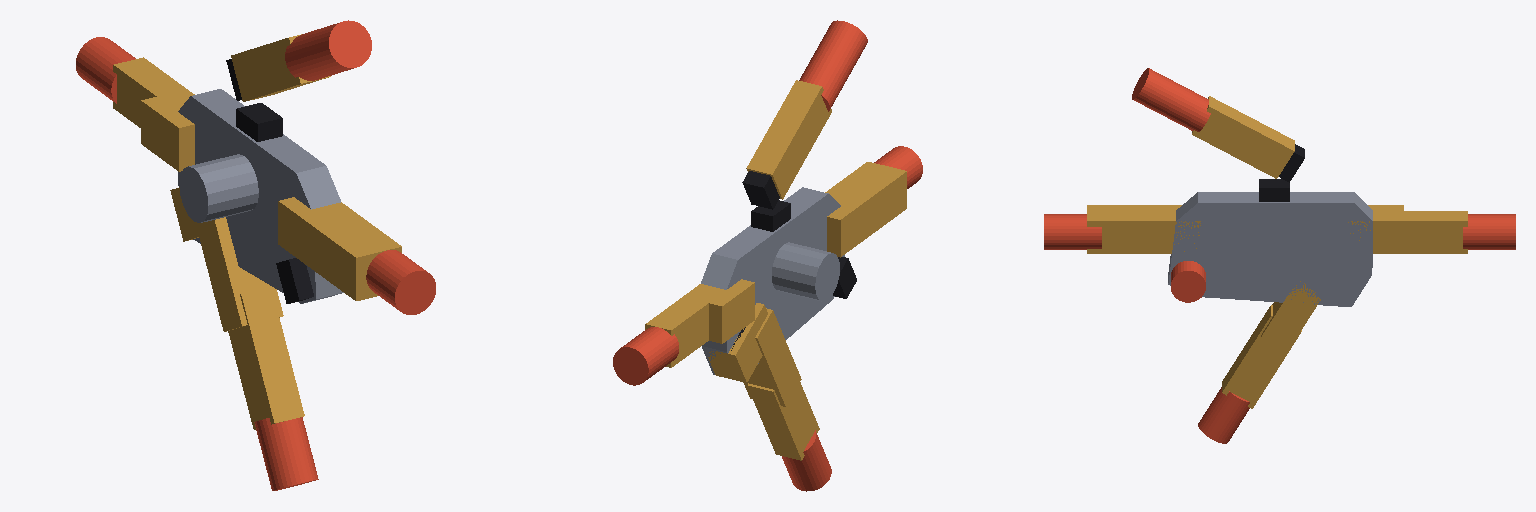
URDF robot description (g0064_c04):
<robot name="g0064_c04">
  <link name="palm">
    <visual name="palm_palm1">
      <origin xyz="0 0 0" rpy="0 0 0" />
      <geometry>
        <mesh filename="palm_palm1.obj" />
      </geometry>
      <material name="palm_palm1_mat">
        <color rgba="0.55 0.57 0.62 1" />
      </material>
    </visual>
    <collision>
      <origin xyz="0 0 0" rpy="0 0 0" />
      <geometry>
        <mesh filename="palm_palm1.obj" />
      </geometry>
    </collision>
    <visual name="palm_mount2">
      <origin xyz="0 0 0" rpy="0 0 0" />
      <geometry>
        <mesh filename="palm_mount2.obj" />
      </geometry>
      <material name="palm_mount2_mat">
        <color rgba="0.55 0.57 0.62 1" />
      </material>
    </visual>
    <collision>
      <origin xyz="0 0 0" rpy="0 0 0" />
      <geometry>
        <mesh filename="palm_mount2.obj" />
      </geometry>
    </collision>
    <visual name="palm_hinge3">
      <origin xyz="0 -1.99005105e-18 0.0325" rpy="-1.57079633 -6.123234e-17 1.57079633" />
      <geometry>
        <box size="0.029 0.034 0.02" />
      </geometry>
      <material name="palm_hinge3_mat">
        <color rgba="0.15 0.15 0.17 1" />
      </material>
    </visual>
    <collision>
      <origin xyz="0 -1.99005105e-18 0.0325" rpy="-1.57079633 -6.123234e-17 1.57079633" />
      <geometry>
        <box size="0.029 0.034 0.02" />
      </geometry>
    </collision>
    <visual name="palm_motor4">
      <origin xyz="-0.007 -0.08 -0.04" rpy="1.06057524e-16 -1.04719755 1.57079633" />
      <geometry>
        <box size="0.029 0.034 0.02" />
      </geometry>
      <material name="palm_motor4_mat">
        <color rgba="0.15 0.15 0.17 1" />
      </material>
    </visual>
    <collision>
      <origin xyz="-0.007 -0.08 -0.04" rpy="1.06057524e-16 -1.04719755 1.57079633" />
      <geometry>
        <box size="0.029 0.034 0.02" />
      </geometry>
    </collision>
    <visual name="palm_motor5">
      <origin xyz="0 -0.0725 1.37772765e-18" rpy="-0 -1.57079633 0" />
      <geometry>
        <box size="0.029 0.034 0.02" />
      </geometry>
      <material name="palm_motor5_mat">
        <color rgba="0.15 0.15 0.17 1" />
      </material>
    </visual>
    <collision>
      <origin xyz="0 -0.0725 1.37772765e-18" rpy="-0 -1.57079633 0" />
      <geometry>
        <box size="0.029 0.034 0.02" />
      </geometry>
    </collision>
    <visual name="palm_motor6">
      <origin xyz="-0.0045 0.0666996732 -0.0467548095" rpy="1.57079633 -0.523598776 -1.57079633" />
      <geometry>
        <box size="0.029 0.034 0.02" />
      </geometry>
      <material name="palm_motor6_mat">
        <color rgba="0.15 0.15 0.17 1" />
      </material>
    </visual>
    <collision>
      <origin xyz="-0.0045 0.0666996732 -0.0467548095" rpy="1.57079633 -0.523598776 -1.57079633" />
      <geometry>
        <box size="0.029 0.034 0.02" />
      </geometry>
    </collision>
    <visual name="palm_motor7">
      <origin xyz="0 0.0725 -4.5924255e-19" rpy="-3.14159265 1.57079633 0" />
      <geometry>
        <box size="0.029 0.034 0.02" />
      </geometry>
      <material name="palm_motor7_mat">
        <color rgba="0.15 0.15 0.17 1" />
      </material>
    </visual>
    <collision>
      <origin xyz="0 0.0725 -4.5924255e-19" rpy="-3.14159265 1.57079633 0" />
      <geometry>
        <box size="0.029 0.034 0.02" />
      </geometry>
    </collision>
    <inertial>
      <origin xyz="1.62576089e-19 -0.000576284134 -0.0153445716" rpy="1.57079633 0.00985398496 1.57079633" />
      <mass value="0.759802001" />
      <inertia ixx="0.000656043257" ixy="0" ixz="0" iyy="0.00207053053" iyz="0" izz="0.00265363279" />
    </inertial>
  </link>
  <link name="palm0">
    <visual name="palm0_palm1">
      <origin xyz="0 0 0" rpy="0 0 0" />
      <geometry>
        <mesh filename="palm0_palm1.obj" />
      </geometry>
      <material name="palm0_palm1_mat">
        <color rgba="0.55 0.57 0.62 1" />
      </material>
    </visual>
    <collision>
      <origin xyz="0 0 0" rpy="0 0 0" />
      <geometry>
        <mesh filename="palm0_palm1.obj" />
      </geometry>
    </collision>
    <visual name="palm0_motor2">
      <origin xyz="0 0.00649519053 0.03625" rpy="-1.57079633 -1.04719755 1.57079633" />
      <geometry>
        <box size="0.029 0.034 0.02" />
      </geometry>
      <material name="palm0_motor2_mat">
        <color rgba="0.15 0.15 0.17 1" />
      </material>
    </visual>
    <collision>
      <origin xyz="0 0.00649519053 0.03625" rpy="-1.57079633 -1.04719755 1.57079633" />
      <geometry>
        <box size="0.029 0.034 0.02" />
      </geometry>
    </collision>
    <inertial>
      <origin xyz="0 0.00298584265 0.0237636617" rpy="1.57079633 -0.00703021616 1.57079633" />
      <mass value="0.160589974" />
      <inertia ixx="3.66094242e-05" ixy="0" ixz="0" iyy="0.000120745357" iyz="0" izz="0.000141938144" />
    </inertial>
  </link>
  <link name="f0_link0">
    <visual name="f0_link0_link1">
      <origin xyz="0.019 0 -6.9388939e-18" rpy="-1.57079633 -0 -1.57079633" />
      <geometry>
        <cylinder radius="0.0165" length="0.029" />
      </geometry>
      <material name="f0_link0_link1_mat">
        <color rgba="0.85 0.35 0.25 1" />
      </material>
    </visual>
    <collision>
      <origin xyz="0.019 0 -6.9388939e-18" rpy="-1.57079633 -0 -1.57079633" />
      <geometry>
        <cylinder radius="0.0165" length="0.029" />
      </geometry>
    </collision>
    <inertial>
      <origin xyz="0.019 0 0" rpy="0 0 0" />
      <mass value="0.0763354" />
      <inertia ixx="9.49466441e-06" ixy="0" ixz="0" iyy="2.24143997e-05" iyz="0" izz="2.24143997e-05" />
    </inertial>
  </link>
  <link name="f1_link0">
    <visual name="f1_link0_link1">
      <origin xyz="0.04125 -0.00625 0" rpy="0 -0 0" />
      <geometry>
        <box size="0.1065 0.0365 0.033" />
      </geometry>
      <material name="f1_link0_link1_mat">
        <color rgba="0.80 0.62 0.30 1" />
      </material>
    </visual>
    <collision>
      <origin xyz="0.04125 -0.00625 0" rpy="0 -0 0" />
      <geometry>
        <box size="0.1065 0.0365 0.033" />
      </geometry>
    </collision>
    <inertial>
      <origin xyz="0.04125 -0.00625 0" rpy="0 0 0" />
      <mass value="0.224488688" />
      <inertia ixx="4.52952696e-05" ixy="0" ixz="0" iyy="0.00023255625" iyz="0" izz="0.000237106822" />
    </inertial>
  </link>
  <link name="f1_link1">
    <visual name="f1_link1_link1">
      <origin xyz="0.02675 0 0" rpy="-1.57079633 -0 -1.57079633" />
      <geometry>
        <cylinder radius="0.0165" length="0.0535" />
      </geometry>
      <material name="f1_link1_link1_mat">
        <color rgba="0.85 0.35 0.25 1" />
      </material>
    </visual>
    <collision>
      <origin xyz="0.02675 0 0" rpy="-1.57079633 -0 -1.57079633" />
      <geometry>
        <cylinder radius="0.0165" length="0.0535" />
      </geometry>
    </collision>
    <inertial>
      <origin xyz="0.02675 0 0" rpy="0 0 0" />
      <mass value="0.113006328" />
      <inertia ixx="1.44864944e-05" ixy="0" ixz="0" iyy="6.25996244e-05" iyz="0" izz="6.25996244e-05" />
    </inertial>
  </link>
  <link name="f2_link0">
    <visual name="f2_link0_link1">
      <origin xyz="0.03375 0 0" rpy="0 7.03853194e-17 0" />
      <geometry>
        <box size="0.0915 0.024 0.033" />
      </geometry>
      <material name="f2_link0_link1_mat">
        <color rgba="0.80 0.62 0.30 1" />
      </material>
    </visual>
    <collision>
      <origin xyz="0.03375 0 0" rpy="0 7.03853194e-17 0" />
      <geometry>
        <box size="0.0915 0.024 0.033" />
      </geometry>
    </collision>
    <inertial>
      <origin xyz="0.03375 0 0" rpy="0 0 0" />
      <mass value="0.126819" />
      <inertia ixx="1.75961363e-05" ixy="0" ixz="0" iyy="9.99888553e-05" iyz="0" izz="9.45673431e-05" />
    </inertial>
  </link>
  <link name="f2_link1">
    <visual name="f2_link1_link1">
      <origin xyz="0.039 0 -1.38777878e-17" rpy="-1.57079633 -0 -1.57079633" />
      <geometry>
        <cylinder radius="0.0165" length="0.069" />
      </geometry>
      <material name="f2_link1_link1_mat">
        <color rgba="0.85 0.35 0.25 1" />
      </material>
    </visual>
    <collision>
      <origin xyz="0.039 0 -1.38777878e-17" rpy="-1.57079633 -0 -1.57079633" />
      <geometry>
        <cylinder radius="0.0165" length="0.069" />
      </geometry>
    </collision>
    <inertial>
      <origin xyz="0.039 0 0" rpy="0 0 0" />
      <mass value="0.136206302" />
      <inertia ixx="1.76445909e-05" ixy="0" ixz="0" iyy="0.000104842911" iyz="0" izz="0.000104842911" />
    </inertial>
  </link>
  <link name="f3_link0">
    <visual name="f3_link0_link1">
      <origin xyz="-0.00625 0 -0.0165" rpy="0 4.06369831e-17 0" />
      <geometry>
        <box size="0.0365 0.029 0.053" />
      </geometry>
      <material name="f3_link0_link1_mat">
        <color rgba="0.80 0.62 0.30 1" />
      </material>
    </visual>
    <collision>
      <origin xyz="-0.00625 0 -0.0165" rpy="0 4.06369831e-17 0" />
      <geometry>
        <box size="0.0365 0.029 0.053" />
      </geometry>
    </collision>
    <inertial>
      <origin xyz="-0.00625 0 -0.0165" rpy="0 0 0" />
      <mass value="0.098175875" />
      <inertia ixx="2.98618286e-05" ixy="0" ixz="0" iyy="3.38809035e-05" iyz="0" izz="1.778006e-05" />
    </inertial>
  </link>
  <link name="f3_link1">
    <visual name="f3_link1_link1">
      <origin xyz="0.03375 0 6.9388939e-18" rpy="0 4.06369831e-17 0" />
      <geometry>
        <box size="0.0915 0.033 0.029" />
      </geometry>
      <material name="f3_link1_link1_mat">
        <color rgba="0.80 0.62 0.30 1" />
      </material>
    </visual>
    <collision>
      <origin xyz="0.03375 0 6.9388939e-18" rpy="0 4.06369831e-17 0" />
      <geometry>
        <box size="0.0915 0.033 0.029" />
      </geometry>
    </collision>
    <inertial>
      <origin xyz="0.03375 0 0" rpy="0 0 0" />
      <mass value="0.153239625" />
      <inertia ixx="2.46460397e-05" ixy="0" ixz="0" iyy="0.000117652915" iyz="0" izz="0.000120819867" />
    </inertial>
  </link>
  <link name="f3_link2">
    <visual name="f3_link2_link1">
      <origin xyz="0.03375 0 -1.38777878e-17" rpy="0 4.06369831e-17 0" />
      <geometry>
        <box size="0.0915 0.024 0.033" />
      </geometry>
      <material name="f3_link2_link1_mat">
        <color rgba="0.80 0.62 0.30 1" />
      </material>
    </visual>
    <collision>
      <origin xyz="0.03375 0 -1.38777878e-17" rpy="0 4.06369831e-17 0" />
      <geometry>
        <box size="0.0915 0.024 0.033" />
      </geometry>
    </collision>
    <inertial>
      <origin xyz="0.03375 0 0" rpy="0 0 0" />
      <mass value="0.126819" />
      <inertia ixx="1.75961363e-05" ixy="0" ixz="0" iyy="9.99888553e-05" iyz="0" izz="9.45673431e-05" />
    </inertial>
  </link>
  <link name="f3_link3">
    <visual name="f3_link3_link1">
      <origin xyz="0.029 0 1.04083409e-17" rpy="-1.57079633 -0 -1.57079633" />
      <geometry>
        <cylinder radius="0.0165" length="0.049" />
      </geometry>
      <material name="f3_link3_link1_mat">
        <color rgba="0.85 0.35 0.25 1" />
      </material>
    </visual>
    <collision>
      <origin xyz="0.029 0 1.04083409e-17" rpy="-1.57079633 -0 -1.57079633" />
      <geometry>
        <cylinder radius="0.0165" length="0.049" />
      </geometry>
    </collision>
    <inertial>
      <origin xyz="0.029 0 0" rpy="0 0 0" />
      <mass value="0.106270851" />
      <inertia ixx="1.35696277e-05" ixy="0" ixz="0" iyy="5.30015704e-05" iyz="0" izz="5.30015704e-05" />
    </inertial>
  </link>
  <link name="f4_link0">
    <visual name="f4_link0_link1">
      <origin xyz="0.014 -0.00625 0" rpy="0 -0 0" />
      <geometry>
        <box size="0.052 0.0365 0.033" />
      </geometry>
      <material name="f4_link0_link1_mat">
        <color rgba="0.80 0.62 0.30 1" />
      </material>
    </visual>
    <collision>
      <origin xyz="0.014 -0.00625 0" rpy="0 -0 0" />
      <geometry>
        <box size="0.052 0.0365 0.033" />
      </geometry>
    </collision>
    <inertial>
      <origin xyz="0.014 -0.00625 0" rpy="0 0 0" />
      <mass value="0.1096095" />
      <inertia ixx="2.21160002e-05" ixy="0" ixz="0" iyy="3.46457361e-05" iyz="0" izz="3.6867612e-05" />
    </inertial>
  </link>
  <link name="f4_link1">
    <visual name="f4_link1_link1">
      <origin xyz="0.02875 0 1.54074396e-33" rpy="0 -0 0" />
      <geometry>
        <box size="0.0815 0.024 0.033" />
      </geometry>
      <material name="f4_link1_link1_mat">
        <color rgba="0.80 0.62 0.30 1" />
      </material>
    </visual>
    <collision>
      <origin xyz="0.02875 0 1.54074396e-33" rpy="0 -0 0" />
      <geometry>
        <box size="0.0815 0.024 0.033" />
      </geometry>
    </collision>
    <inertial>
      <origin xyz="0.02875 0 0" rpy="0 0 0" />
      <mass value="0.112959" />
      <inertia ixx="1.56730613e-05" ixy="0" ixz="0" iyy="7.27761891e-05" iyz="0" izz="6.79471918e-05" />
    </inertial>
  </link>
  <link name="f4_link2">
    <visual name="f4_link2_link1">
      <origin xyz="0.029 0 0" rpy="-1.57079633 -0 -1.57079633" />
      <geometry>
        <cylinder radius="0.0165" length="0.049" />
      </geometry>
      <material name="f4_link2_link1_mat">
        <color rgba="0.85 0.35 0.25 1" />
      </material>
    </visual>
    <collision>
      <origin xyz="0.029 0 0" rpy="-1.57079633 -0 -1.57079633" />
      <geometry>
        <cylinder radius="0.0165" length="0.049" />
      </geometry>
    </collision>
    <inertial>
      <origin xyz="0.029 0 0" rpy="0 0 0" />
      <mass value="0.106270851" />
      <inertia ixx="1.35696277e-05" ixy="0" ixz="0" iyy="5.30015704e-05" iyz="0" izz="5.30015704e-05" />
    </inertial>
  </link>
  <joint name="palm0_joint" type="revolute">
    <parent link="palm" />
    <child link="palm0" />
    <origin xyz="0 -2.4492936e-18 0.04" rpy="0 0 0" />
    <axis xyz="0 1 6.123234e-17" />
    <limit effort="0.5" lower="-0.523598776" upper="0.523598776" velocity="5" />
    <dynamics damping="0.0775033" friction="0" />
  </joint>
  <joint name="f0_j0" type="revolute">
    <parent link="palm" />
    <child link="f0_link0" />
    <origin xyz="0.0005 -0.08 -0.04" rpy="1.04719755 5.30287619e-17 -3.061617e-17" />
    <axis xyz="0 1 6.123234e-17" />
    <limit effort="0.5" lower="-0.523598776" upper="0.523598776" velocity="5" />
    <dynamics damping="0.0775033" friction="0" />
  </joint>
  <joint name="f1_j0" type="revolute">
    <parent link="palm" />
    <child link="f1_link0" />
    <origin xyz="0 -0.08 0" rpy="0 1.8369702e-16 -1.57079633" />
    <axis xyz="0 0 1" />
    <limit effort="0.5" lower="-0.523598776" upper="1.57079633" velocity="5" />
    <dynamics damping="0.0775033" friction="0" />
  </joint>
  <joint name="f1_j1" type="revolute">
    <parent link="f1_link0" />
    <child link="f1_link1" />
    <origin xyz="0.08 0 0" rpy="0 0 0" />
    <axis xyz="1 0 6.123234e-17" />
    <limit effort="0.5" lower="-1.57079633" upper="1.57079633" velocity="5" />
    <dynamics damping="0.0775033" friction="0" />
  </joint>
  <joint name="f2_j0" type="revolute">
    <parent link="palm0" />
    <child link="f2_link0" />
    <origin xyz="0 2.4492936e-18 0.04" rpy="-0 -0.523598776 -1.57079633" />
    <axis xyz="0 0 1" />
    <limit effort="0.5" lower="-0.523598776" upper="1.57079633" velocity="5" />
    <dynamics damping="0.0775033" friction="0" />
  </joint>
  <joint name="f2_j1" type="revolute">
    <parent link="f2_link0" />
    <child link="f2_link1" />
    <origin xyz="0.07 0 0" rpy="0 0 0" />
    <axis xyz="0 0 1" />
    <limit effort="0.5" lower="-0.523598776" upper="1.57079633" velocity="5" />
    <dynamics damping="0.0775033" friction="0" />
  </joint>
  <joint name="f3_j0" type="revolute">
    <parent link="palm" />
    <child link="f3_link0" />
    <origin xyz="-0.0045 0.04 -0.04" rpy="0 1.04719755 -1.57079633" />
    <axis xyz="0 0 1" />
    <limit effort="0.5" lower="-0.523598776" upper="1.57079633" velocity="5" />
    <dynamics damping="0.0775033" friction="0" />
  </joint>
  <joint name="f3_j1" type="revolute">
    <parent link="f3_link0" />
    <child link="f3_link1" />
    <origin xyz="0 0 0" rpy="0 0 0" />
    <axis xyz="0 1 6.123234e-17" />
    <limit effort="0.5" lower="-0.523598776" upper="0.523598776" velocity="5" />
    <dynamics damping="0.0775033" friction="0" />
  </joint>
  <joint name="f3_j2" type="revolute">
    <parent link="f3_link1" />
    <child link="f3_link2" />
    <origin xyz="0.07 0 0" rpy="0 0 0" />
    <axis xyz="0 0 1" />
    <limit effort="0.5" lower="-0.523598776" upper="1.57079633" velocity="5" />
    <dynamics damping="0.0775033" friction="0" />
  </joint>
  <joint name="f3_j3" type="revolute">
    <parent link="f3_link2" />
    <child link="f3_link3" />
    <origin xyz="0.07 0 0" rpy="0 0 0" />
    <axis xyz="0 0 1" />
    <limit effort="0.5" lower="-0.523598776" upper="1.57079633" velocity="5" />
    <dynamics damping="0.0775033" friction="0" />
  </joint>
  <joint name="f4_j0" type="revolute">
    <parent link="palm" />
    <child link="f4_link0" />
    <origin xyz="0 0.08 0" rpy="-3.14159265 -6.123234e-17 1.57079633" />
    <axis xyz="0 0 1" />
    <limit effort="0.5" lower="-0.523598776" upper="1.57079633" velocity="5" />
    <dynamics damping="0.0775033" friction="0" />
  </joint>
  <joint name="f4_j1" type="revolute">
    <parent link="f4_link0" />
    <child link="f4_link1" />
    <origin xyz="0.03 0 0" rpy="0 0 0" />
    <axis xyz="0 0 1" />
    <limit effort="0.5" lower="-0.523598776" upper="1.57079633" velocity="5" />
    <dynamics damping="0.0775033" friction="0" />
  </joint>
  <joint name="f4_j2" type="revolute">
    <parent link="f4_link1" />
    <child link="f4_link2" />
    <origin xyz="0.06 0 0" rpy="0 0 0" />
    <axis xyz="0 0 1" />
    <limit effort="0.5" lower="-0.523598776" upper="1.57079633" velocity="5" />
    <dynamics damping="0.0775033" friction="0" />
  </joint>
</robot>

--- What the picture shows (computed from the rendered views, not written in the file) ---
3 views of the same robot in one strip: view 1: azimuth 30°, elevation 25°; view 2: azimuth 150°, elevation 25°; view 3: azimuth 270°, elevation 25° (orthographic).
Robot: g0064_c04 — 14 links, 13 joints (13 revolute); root link palm; default pose: every joint at zero.
Links seen in each view (by area): view 1: palm, f1_link0, f3_link2, f2_link1, f3_link1, f4_link0, f3_link3, f1_link1, f2_link0, f4_link1, f4_link2, f3_link0; view 2: palm, f1_link0, f2_link0, f3_link2, f2_link1, f3_link1, f4_link1, f4_link2, f4_link0, f3_link0, f3_link3, palm0 (+1 smaller); view 3: palm, f1_link0, f2_link0, f3_link2, f4_link1, f2_link1, f3_link1, f1_link1, f4_link2, f3_link3, f4_link0, f0_link0.
Boxes of the visible links, x1,y1,x2,y2 form: palm: (178,89,343,303); f1_link0: (278,197,401,300); f3_link2: (228,287,304,429); f2_link1: (285,20,371,80); f3_link1: (195,217,283,331); f4_link0: (141,89,194,171); f3_link3: (254,417,318,490); f1_link1: (366,250,435,314); f2_link0: (231,34,330,101); f4_link1: (113,57,185,127); f4_link2: (76,37,135,103); f3_link0: (170,187,198,241); palm: (701,187,856,374); f1_link0: (825,162,906,257); f2_link0: (746,80,831,199); f3_link2: (747,382,819,460); f2_link1: (799,20,867,111); f3_link1: (743,308,801,406); f4_link1: (645,287,721,367); f4_link2: (613,327,678,385); f4_link0: (686,279,754,343); f3_link0: (708,303,767,382); f3_link3: (782,430,831,491); palm0: (742,171,779,209); palm: (1168,179,1372,306); f1_link0: (1087,205,1200,253); f2_link0: (1192,96,1294,178); f3_link2: (1222,305,1301,408); f4_link1: (1380,211,1467,253); f2_link1: (1132,68,1210,131); f3_link1: (1261,281,1320,350); f1_link1: (1044,214,1101,249); f4_link2: (1463,214,1515,249); f3_link3: (1198,387,1249,443); f4_link0: (1348,205,1403,253); f0_link0: (1171,261,1205,302).
Bounding box of the posed robot: 0.086 × 0.437 × 0.3819 m (x, y, z).
2 mesh visuals loaded from 3 distinct referenced files (2 OBJ); not drawn: 1 (reference not matched to a file when rendering).
